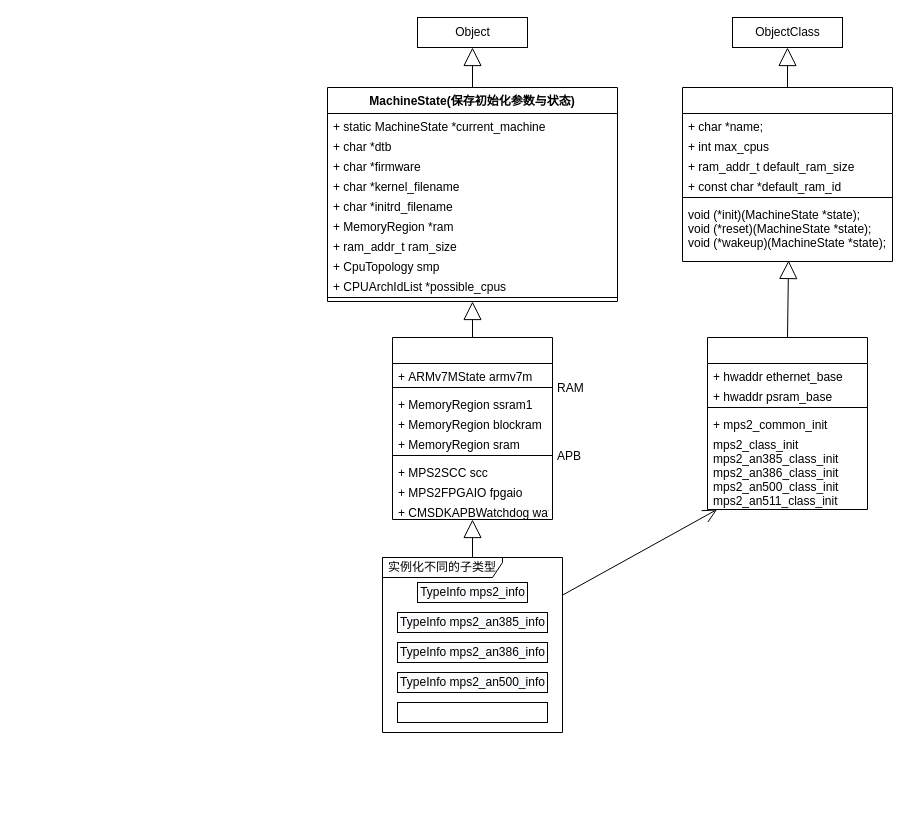
This 910x835 diagram has some shape labels left out. The shapes that lost their labels are listed below. From the top down, each one's box as (x1, y1, x2, y2) in pixels, then its label:
(682, 86, 892, 262): MachineClass(机器抽象)
(392, 336, 552, 520): MPS2MachineState
(706, 336, 868, 510): MPS2MachineClass
(396, 702, 548, 722): TypeInfo mps2_an511_info
